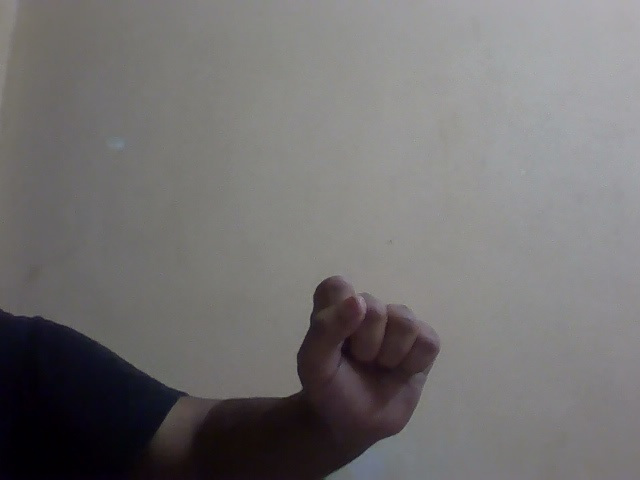Yes: (257, 259, 476, 468)
